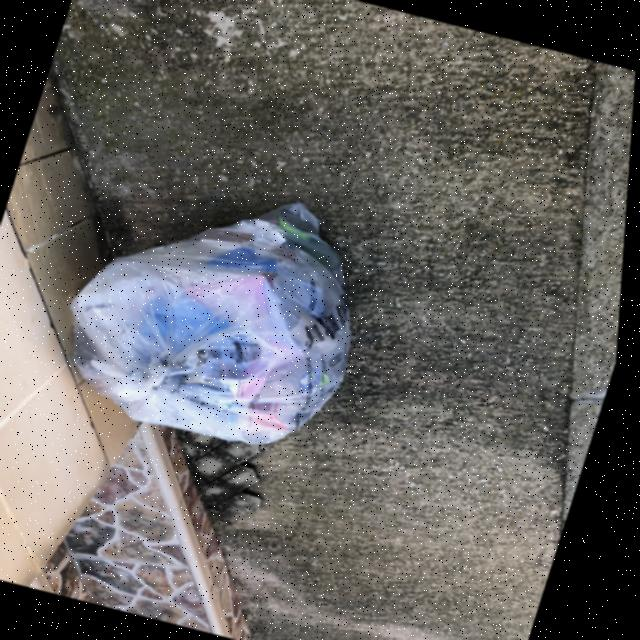Recycled Waste -Grey or Green Bag-: (30, 143, 424, 477)
